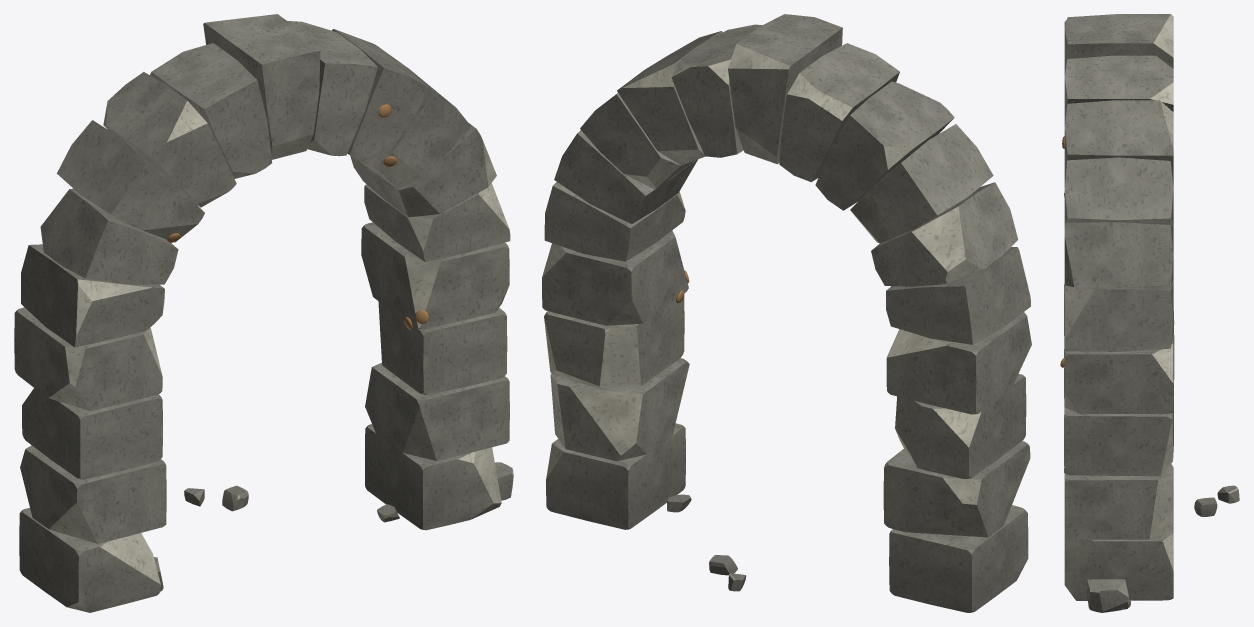
The picture shows the model from 3 angles, left to right: view 1: azimuth 30°, elevation 25°; view 2: azimuth 150°, elevation 25°; view 3: azimuth 270°, elevation 25°; orthographic projection. The views are drawn at different scales.
Parts seen in each view (by area): view 1: weathered mineral, fresh chipped mineral; view 2: weathered mineral, fresh chipped mineral; view 3: weathered mineral, fresh chipped mineral.
Boxes of the visible parts, left/top/right/bottom form: weathered mineral: left=14, top=14, right=513, bottom=612; fresh chipped mineral: left=48, top=101, right=513, bottom=612; weathered mineral: left=542, top=14, right=1031, bottom=612; fresh chipped mineral: left=542, top=44, right=988, bottom=580; weathered mineral: left=1064, top=14, right=1239, bottom=612; fresh chipped mineral: left=1064, top=14, right=1238, bottom=604.
Size of the model in its own units: 1.83 by 1.93 by 0.659.
Materials: 3 (2 with a texture image).
